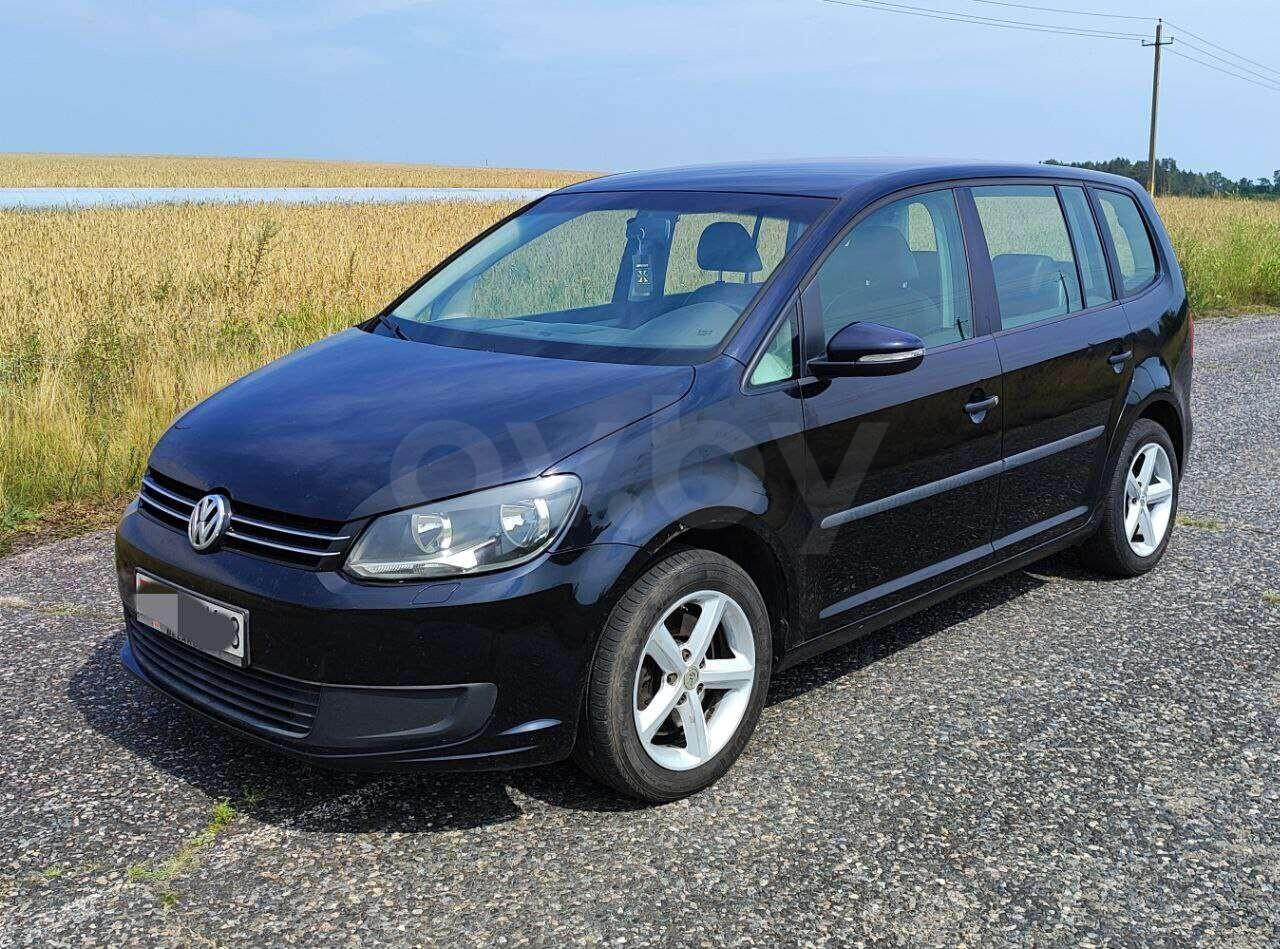Touran_2010-2015: (102, 149, 1198, 823)
